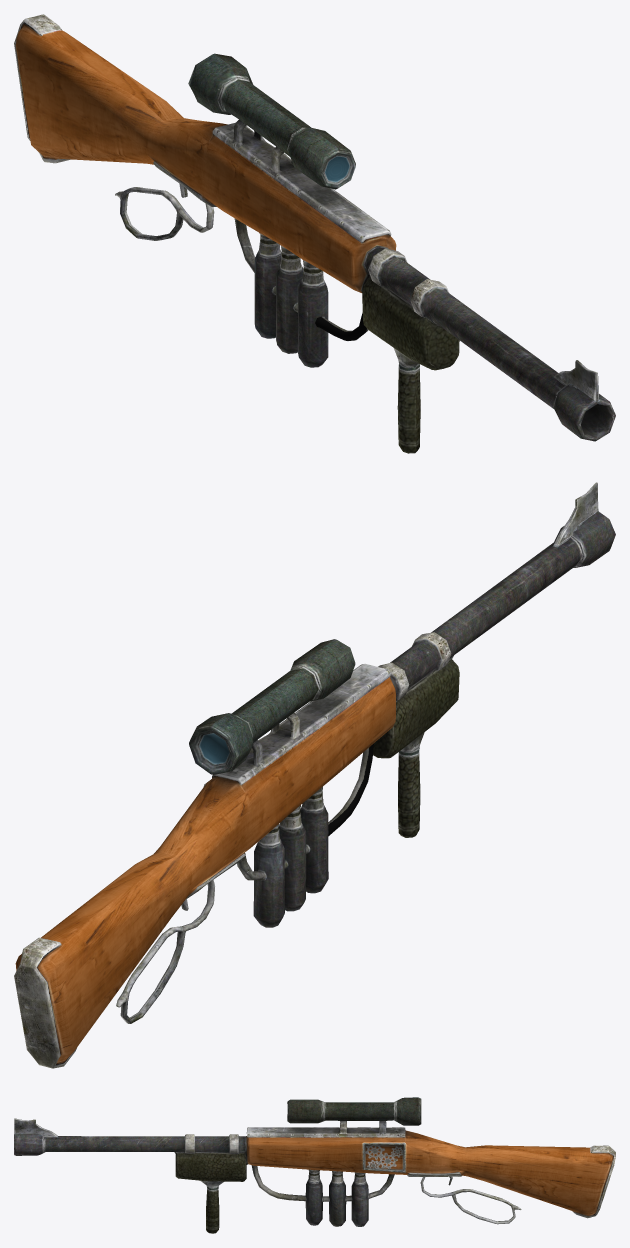
The model's file is SPRifleFN.fbx.
3 renders of one model, top to bottom at view 1: azimuth 30°, elevation 25°; view 2: azimuth 150°, elevation 25°; view 3: azimuth 270°, elevation 25°, orthographic. The views are drawn at different scales.
Parts seen in each view (by area): view 1: polySurface1; view 2: polySurface1; view 3: polySurface1.
Boxes of the visible parts, x1,y1,x2,y2 form: polySurface1: (14,14,615,453); polySurface1: (14,482,615,1068); polySurface1: (14,1097,615,1233).
Bounding box in the file's own units: 21.41 × 105 × 426.
